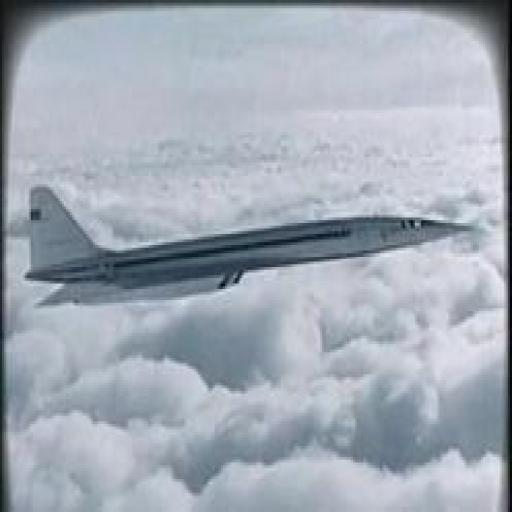aircraft: (25, 184, 475, 308)
